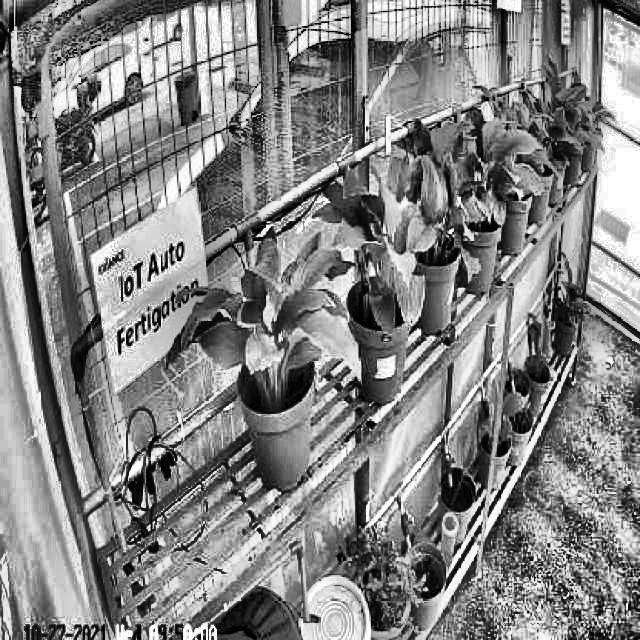plants: (166, 216, 360, 395), (332, 167, 432, 336), (382, 116, 478, 278), (434, 101, 544, 226)
